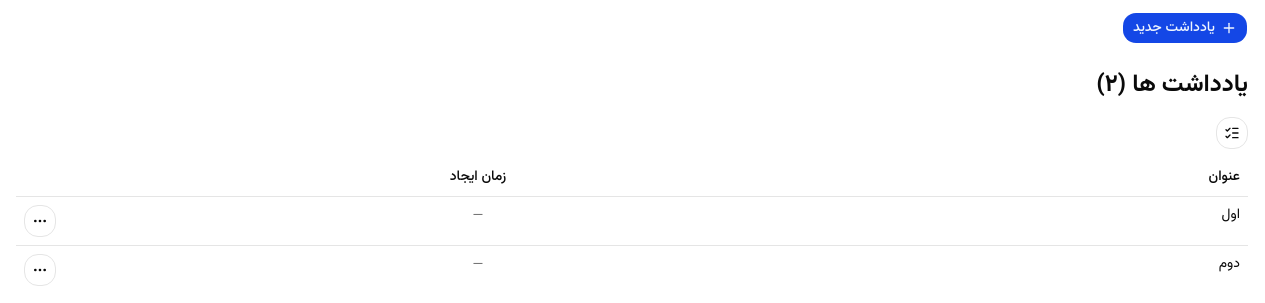
NotesPage select mode › removes the checkboxes again when the mode is switched off
Click the button named "حالت انتخاب برای یادداشت ها" at point(1232, 133), box x1=1216 y1=117 x2=1248 y2=149
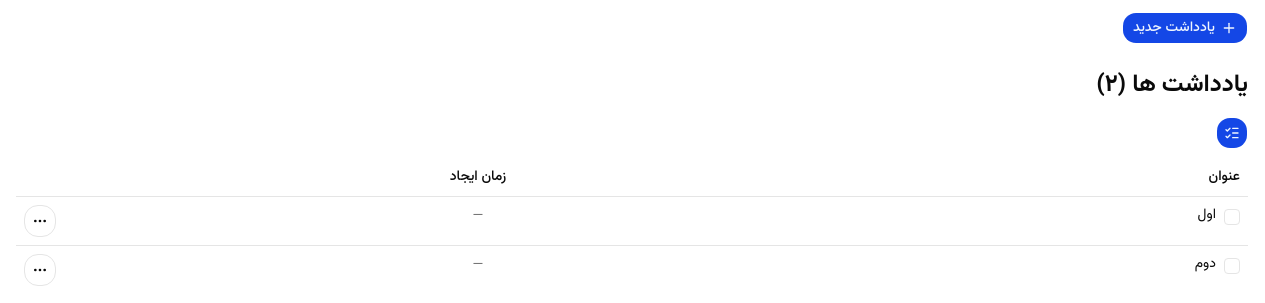
Click the button named "حالت انتخاب برای یادداشت ها" at point(1232, 133), box x1=1216 y1=117 x2=1248 y2=149
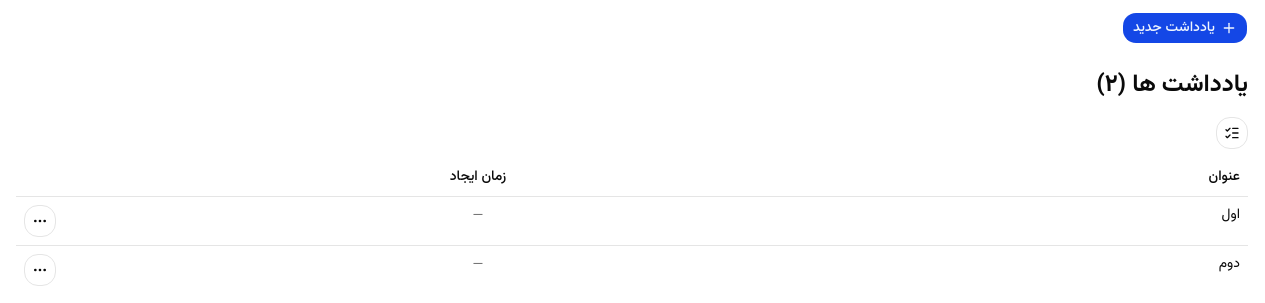
Result: no checkboxes are shown
